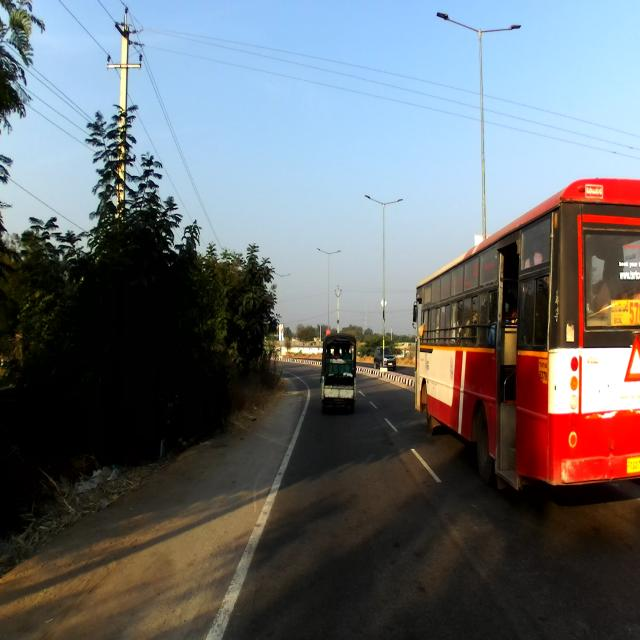auto ahead at: (318, 328, 362, 412)
bus ahead at: (412, 169, 640, 499)
